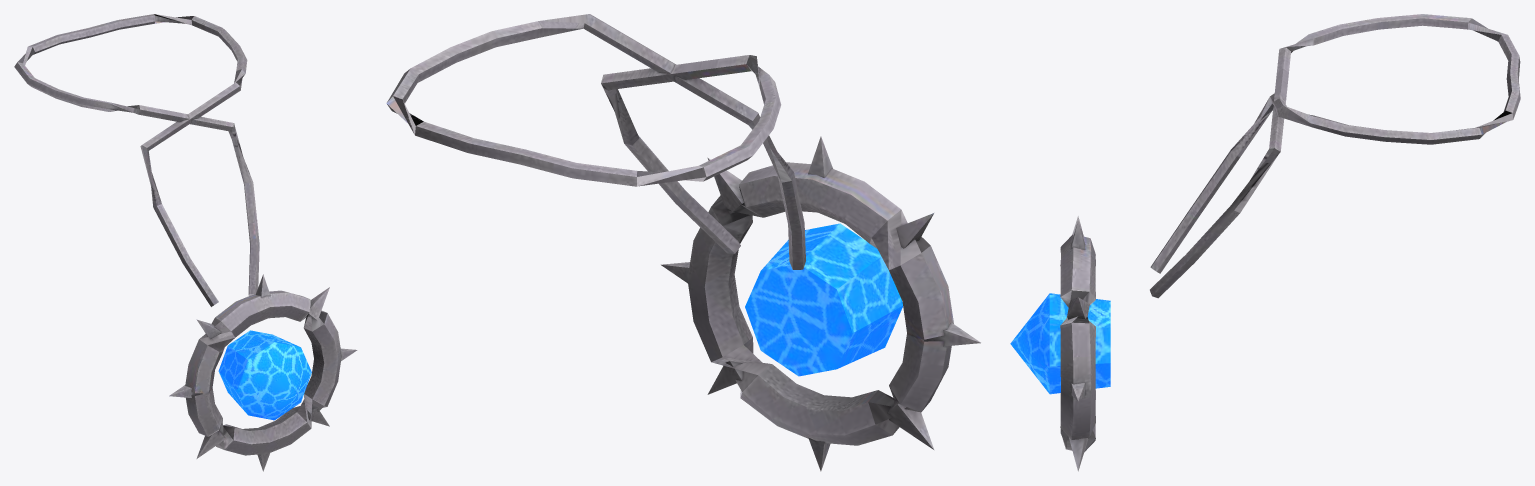
The model's file is Amuleto_do_Equilíbrio_nivel75.glb.
The picture shows the model from 3 angles, left to right: view 1: azimuth 30°, elevation 25°; view 2: azimuth 150°, elevation 25°; view 3: azimuth 270°, elevation 25°; orthographic projection. The views are drawn at different scales.
Visible parts, largest first — view 1: amuleto_do_equilibrio_nivel75; view 2: amuleto_do_equilibrio_nivel75; view 3: amuleto_do_equilibrio_nivel75.
Boxes of the visible parts, x1,y1,x2,y2 form: amuleto_do_equilibrio_nivel75: (14,14,357,471); amuleto_do_equilibrio_nivel75: (386,14,980,471); amuleto_do_equilibrio_nivel75: (1010,14,1520,471).
Bounding box in the file's own units: 0.1584 × 0.2371 × 0.2772.
Materials: 1 (1 with a texture image).
